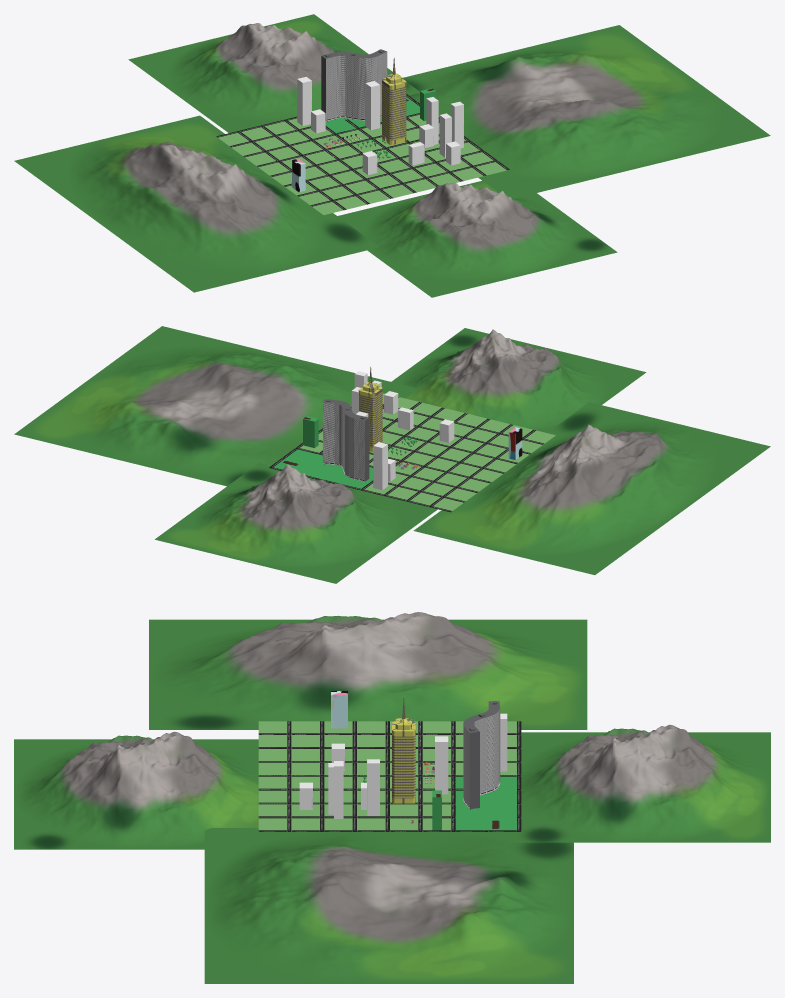
The model's file is MAPA2.fbx.
3 views of the same model, one above another, from view 1: azimuth 30°, elevation 25°; view 2: azimuth 150°, elevation 25°; view 3: azimuth 270°, elevation 25° (orthographic). The views are drawn at different scales.
Visible parts, largest first — view 1: Sphere.018; view 2: Sphere.018; view 3: Sphere.018.
Boxes of the visible parts, left/top/right/bottom form: Sphere.018: left=14, top=14, right=770, bottom=297; Sphere.018: left=14, top=326, right=770, bottom=583; Sphere.018: left=14, top=612, right=770, bottom=983.
Size of the model in its own units: 295785 by 44003 by 265303.
